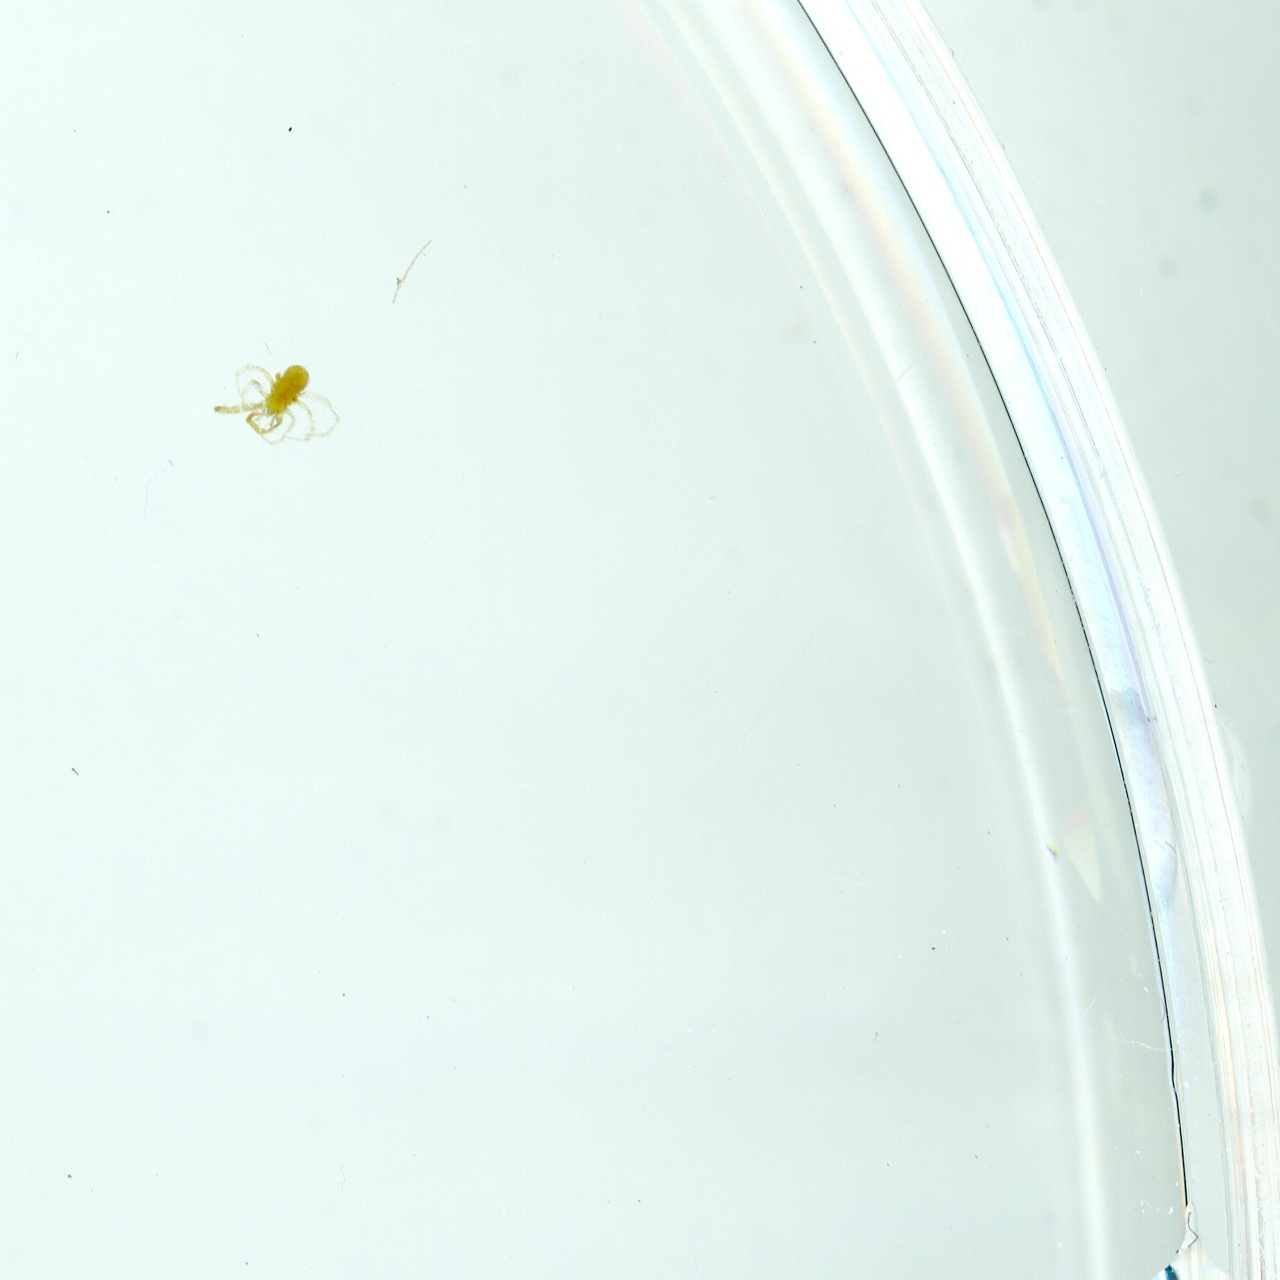arthropod: (212, 348, 345, 449)
